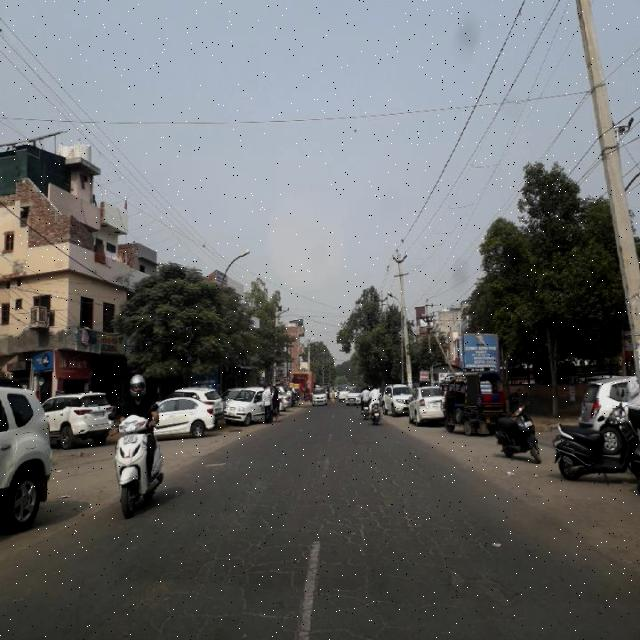D20: (128, 474, 486, 636)
